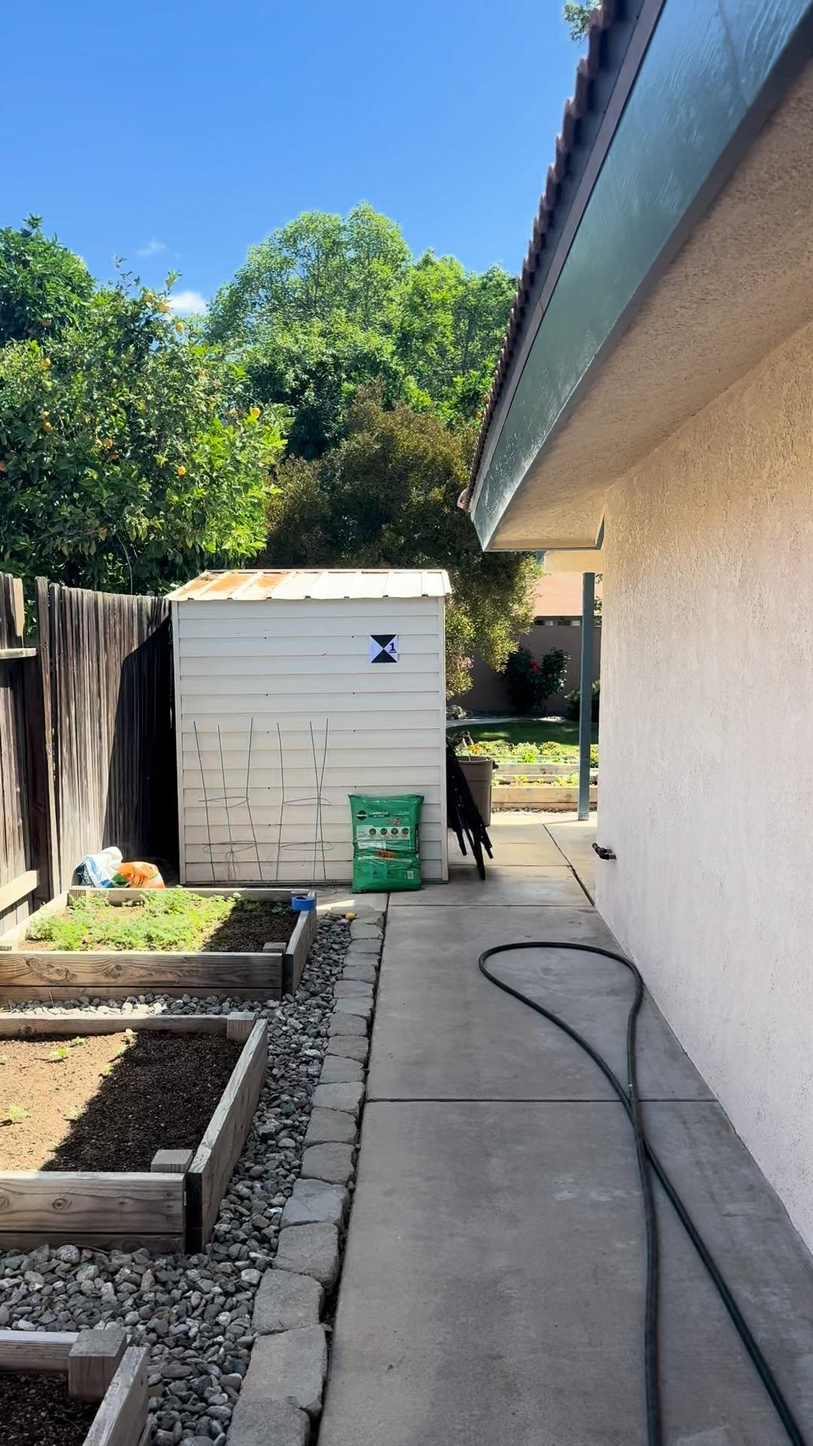target1: (366, 630, 403, 665)
